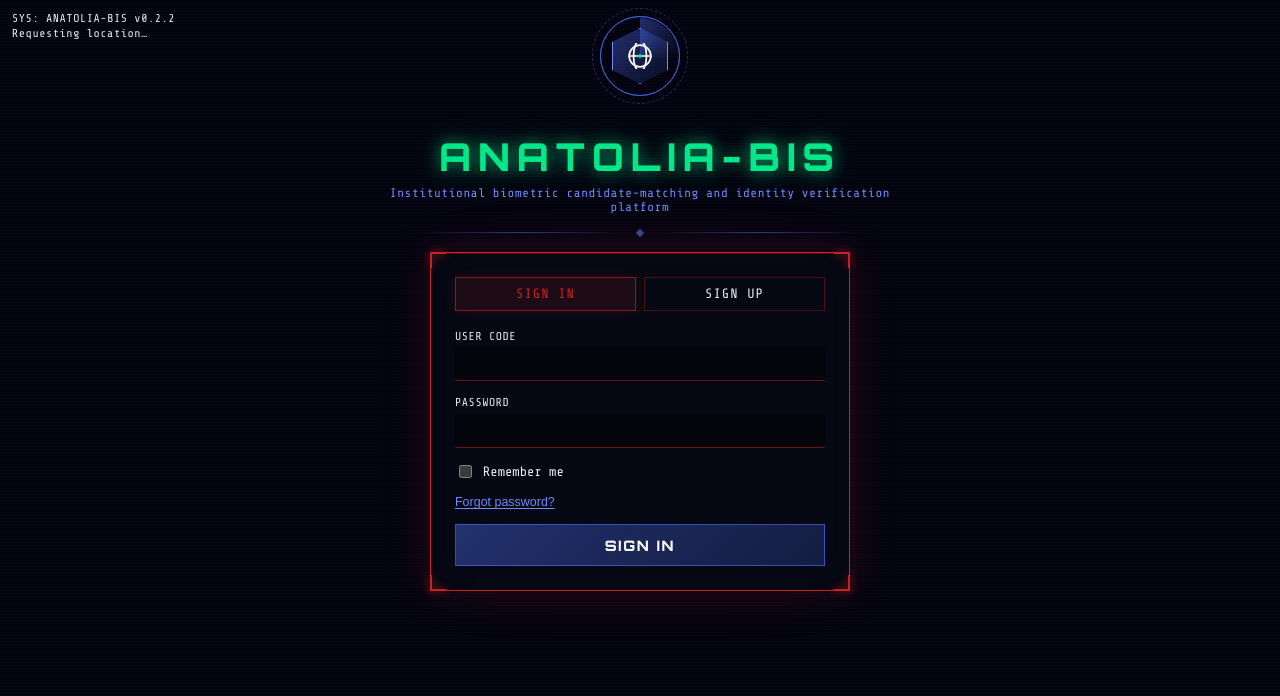
LoginPage › shows the sign-in fields by default and switches to sign-up fields
Expected: the text "User code" is shown, 455,330 -> 516,343
Expected: the text "National ID No" is not shown
Click the button "Sign up" at coordinates (734, 294), box 644,277 -> 825,311
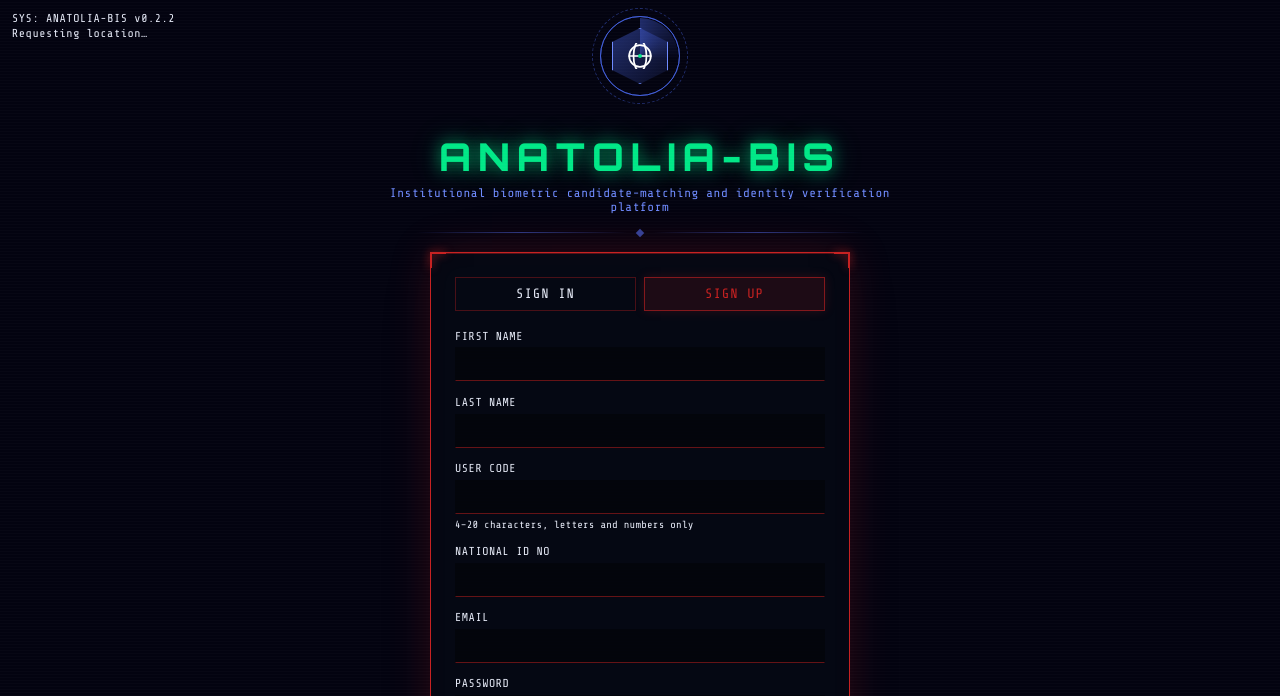
Expected: the text "National ID No" is shown, 455,545 -> 550,558
